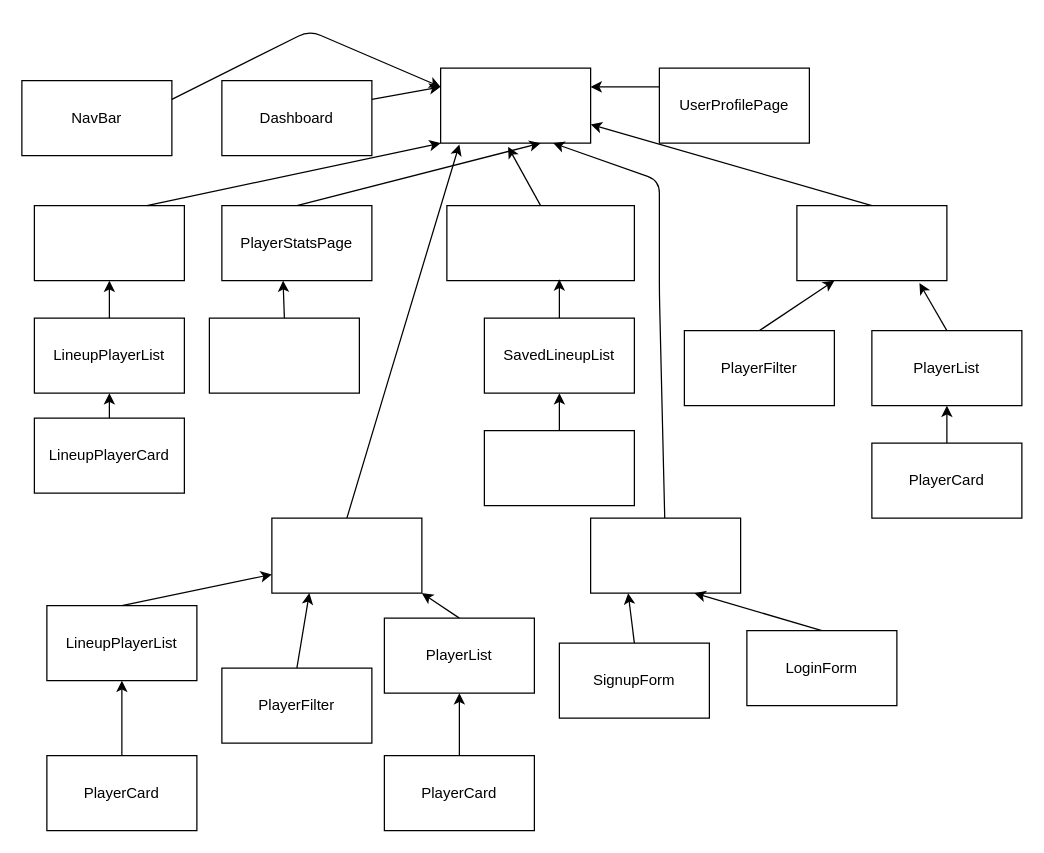
This 1044x853 diagram has some shape labels left out. Each missing label, with the box of its shape:
App: (439, 67, 591, 143)
BuildLineupPage: (33, 204, 184, 281)
EditLineupPage: (271, 517, 422, 593)
HomePage: (589, 517, 741, 593)
PlayerCardDetailed: (208, 317, 359, 393)
PlayersPage: (796, 204, 947, 281)
SavedLineupCard: (483, 429, 634, 506)
ViewSavedLineupsPage: (446, 204, 634, 281)
